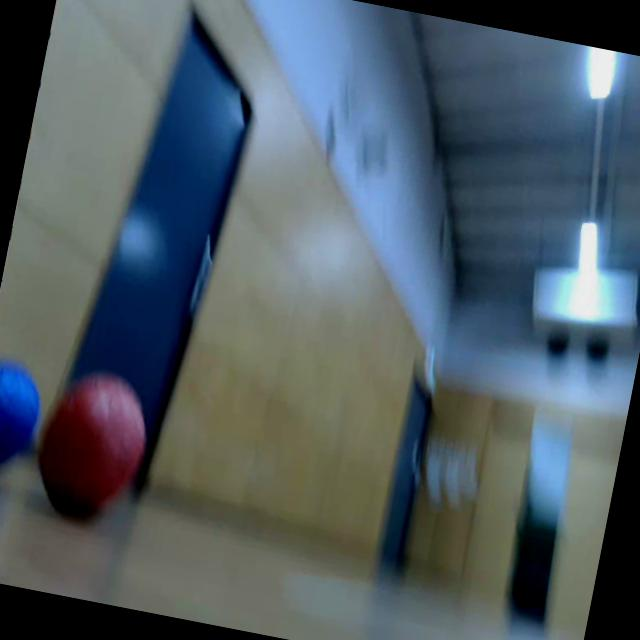blue_ball: (0, 356, 47, 480)
red_ball: (22, 363, 156, 530)
